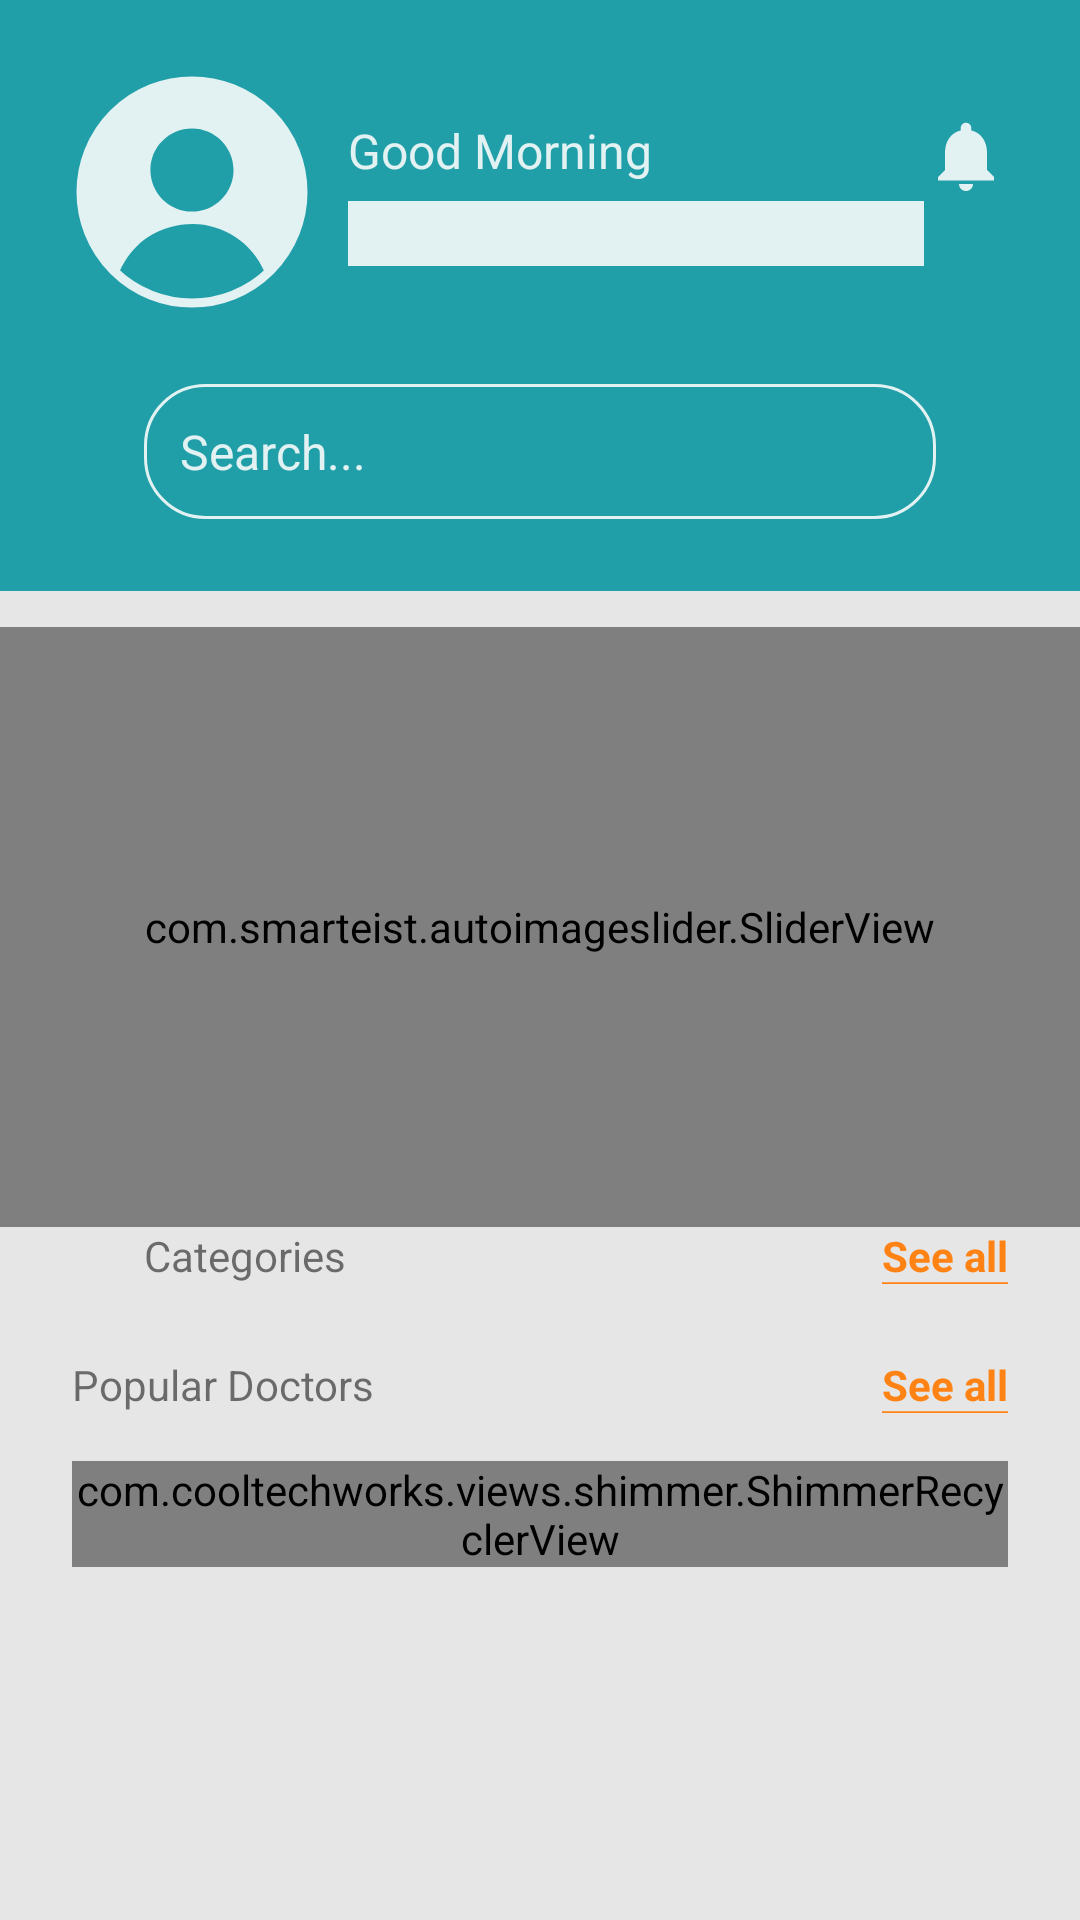

Named icons in this screenshot (1080*1920) and their centers, (x,y):
enter profile: (192,192)
notifications: (966,156)
